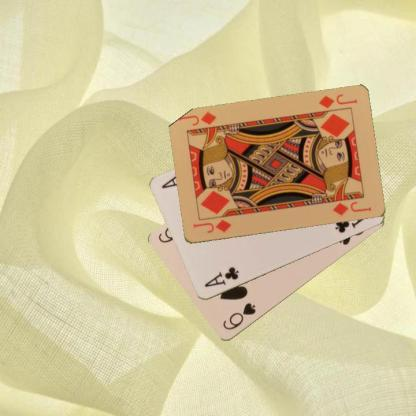6s: (220, 300, 257, 332)
Ac: (202, 264, 240, 289)
Jd: (190, 216, 232, 235), (315, 92, 358, 110)
